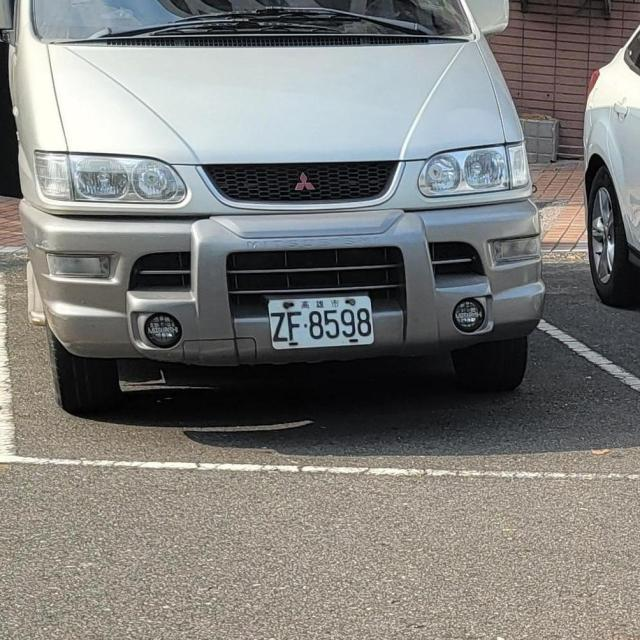W: (264, 292, 379, 354)
